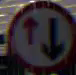Two way: (8, 2, 75, 68)
